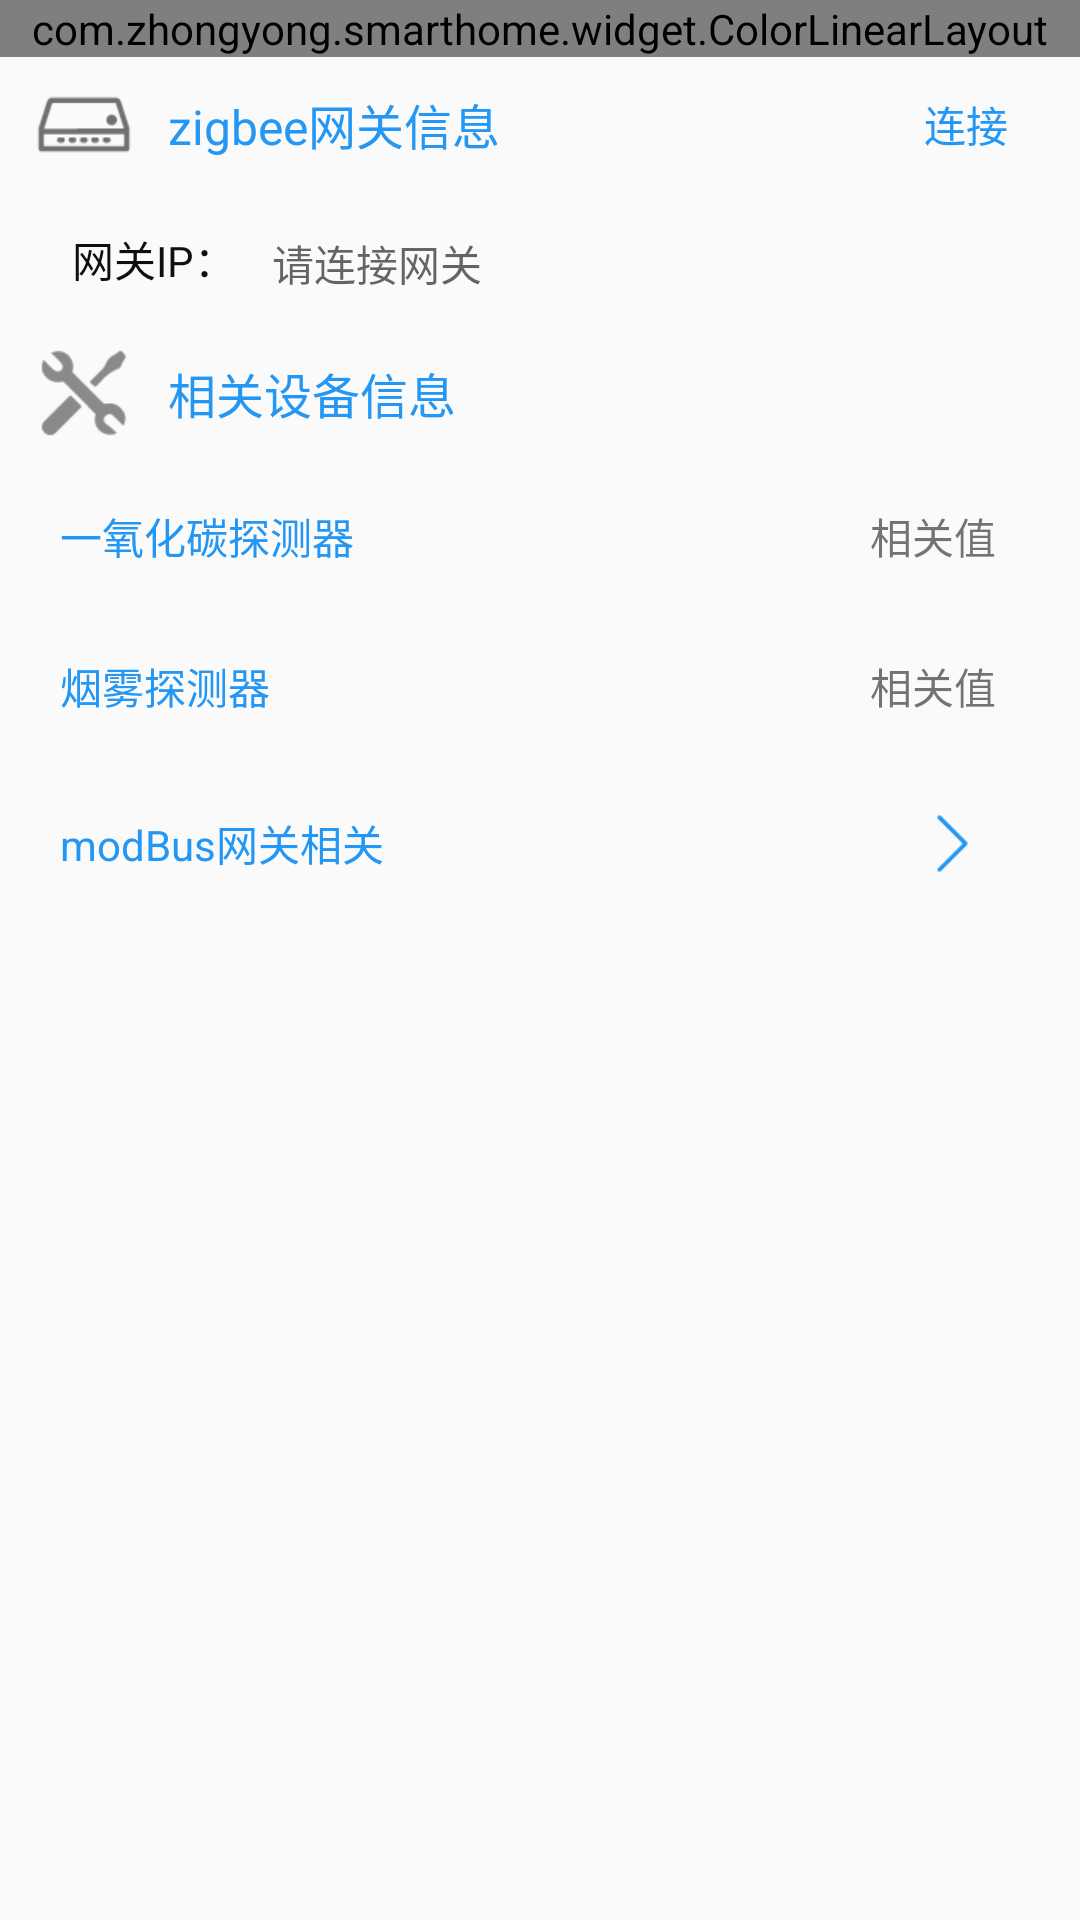

Locate icon controls on the screen. Image size 1080px x 1920px, boxes as (x1, y1, x2, y2).
gateway: (38, 97, 130, 152)
